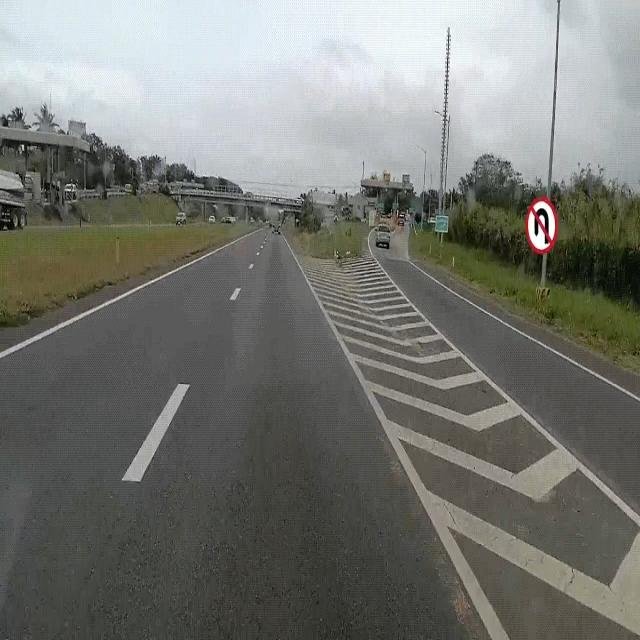Demi-Tour-Interdit: (524, 190, 560, 260)
